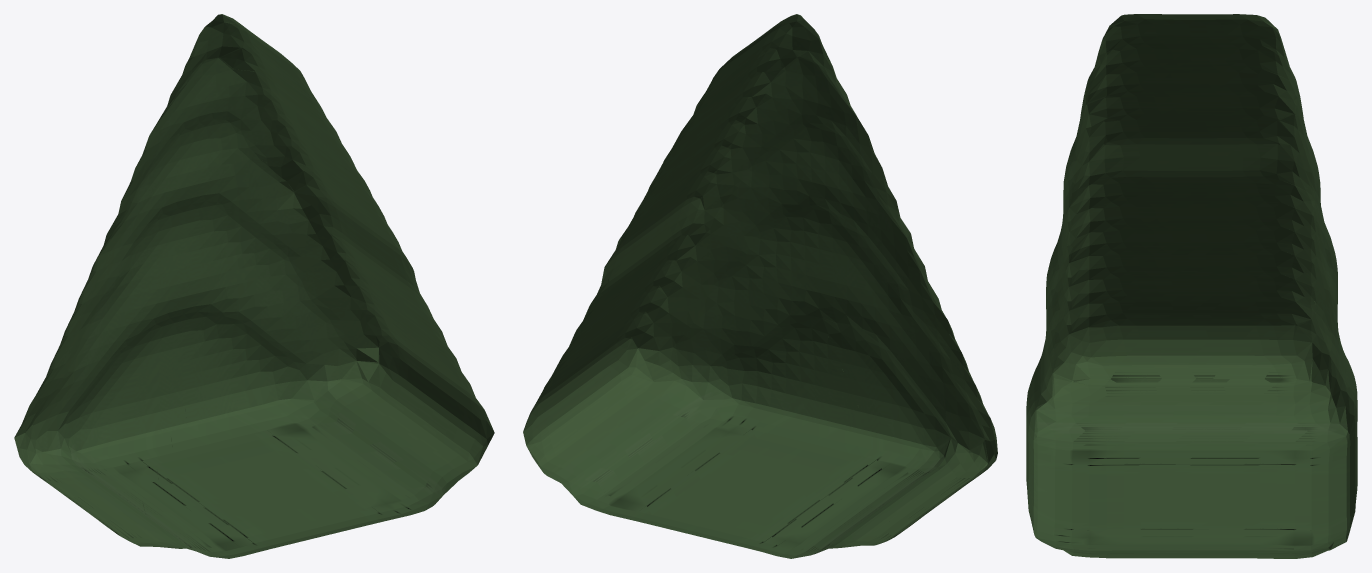
3 views of the same model, side by side, from view 1: azimuth 30°, elevation 25°; view 2: azimuth 150°, elevation 25°; view 3: azimuth 270°, elevation 25° (orthographic). The views are drawn at different scales.
Parts seen in each view (by area): view 1: model; view 2: model; view 3: model.
Boxes of the visible parts, <box> form: model: <box>14,14,494,558</box>; model: <box>523,14,997,558</box>; model: <box>1026,14,1357,558</box>.
Bounding box in the file's own units: 0.869 × 1 × 0.6259.
1 material, 1 textured.
